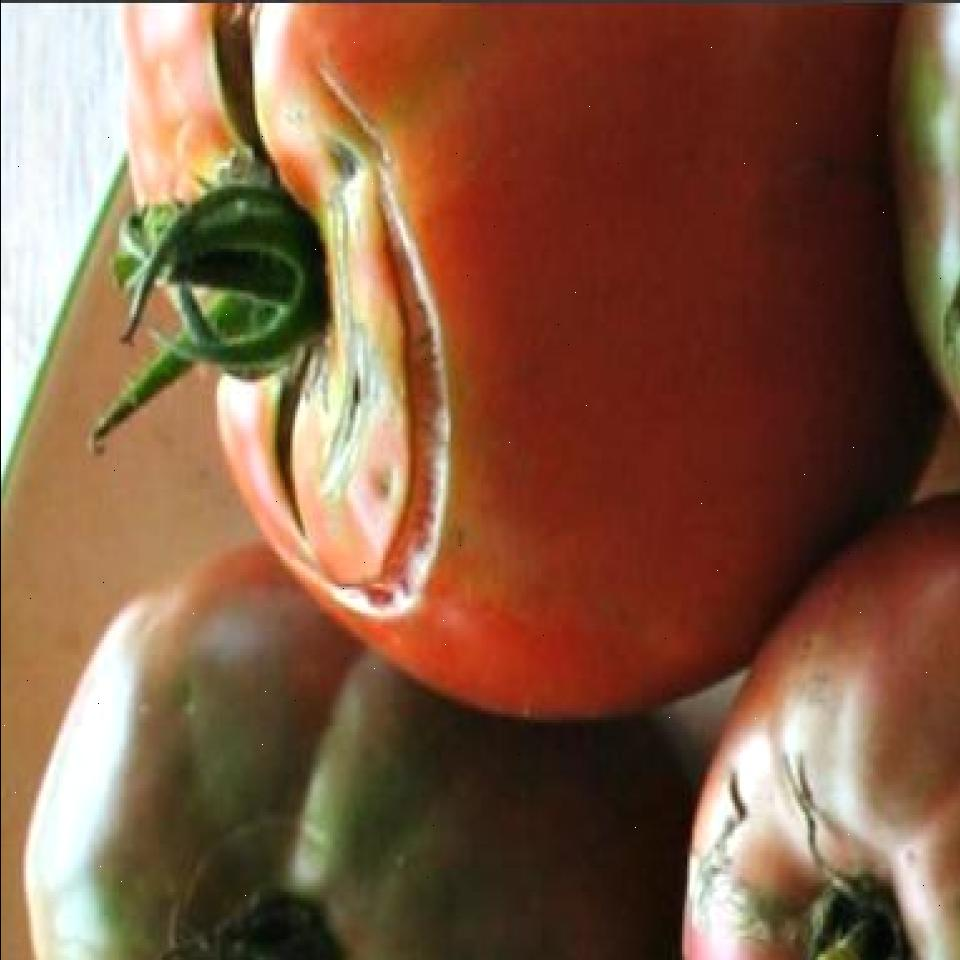Cracking: (262, 35, 461, 664), (257, 325, 320, 577)
